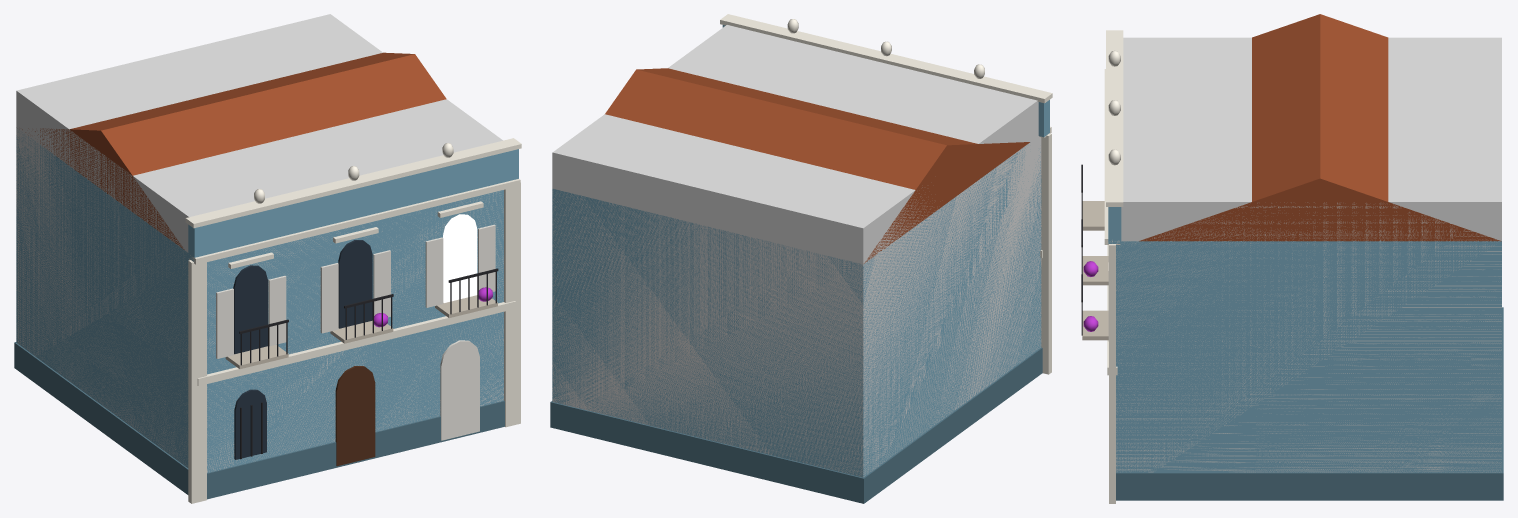
Rendered from sobrado_3.glb.
3 views of the same model, side by side, from view 1: azimuth 30°, elevation 25°; view 2: azimuth 150°, elevation 25°; view 3: azimuth 270°, elevation 25° (orthographic). The views are drawn at different scales.
Visible parts, largest first — view 1: sobrado_3_Malla, COL_0; view 2: COL_0, sobrado_3_Malla; view 3: sobrado_3_Malla, COL_0.
Part boxes in pixels (left/top/right/bottom): sobrado_3_Malla: left=14, top=52, right=521, bottom=503; COL_0: left=16, top=14, right=503, bottom=472; COL_0: left=552, top=25, right=1041, bottom=476; sobrado_3_Malla: left=550, top=14, right=1052, bottom=503; sobrado_3_Malla: left=1081, top=14, right=1503, bottom=503; COL_0: left=1116, top=37, right=1501, bottom=472.
Size of the model in its own units: 9.44 by 8.2 by 9.76.
